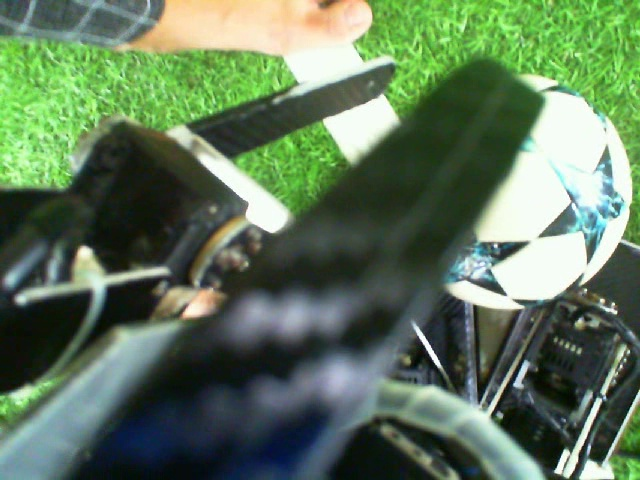ball: (439, 68, 634, 313)
